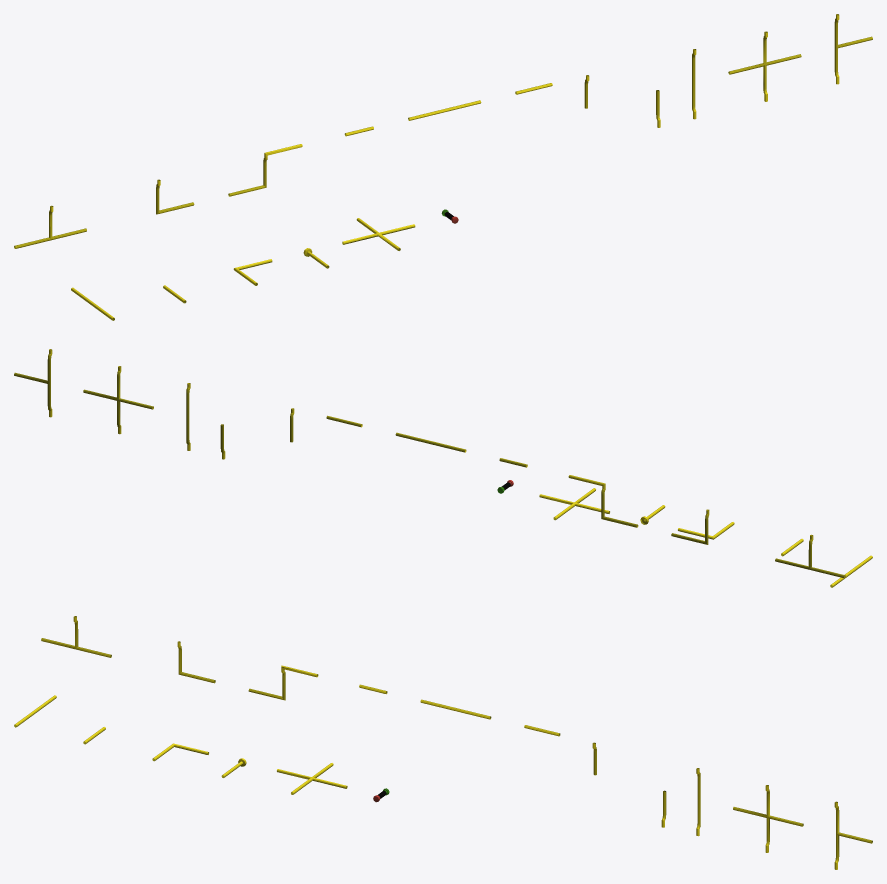
Rendered from CablesPuerta01.fbx.
3 views of the same model, one above another, from view 1: azimuth 30°, elevation 25°; view 2: azimuth 150°, elevation 25°; view 3: azimuth 330°, elevation 25° (orthographic). The views are drawn at different scales.
Parts seen in each view (by area): view 1: no part large enough to name; view 2: Object018; view 3: Object018.
Boxes of the visible parts, box(x1,y1,x2,y2) form: Object018: box(83, 366, 153, 434); Object018: box(733, 785, 803, 852).
Size of the model in its own units: 472 by 38.55 by 61.02.
Materials: 2 (1 with a texture image).
